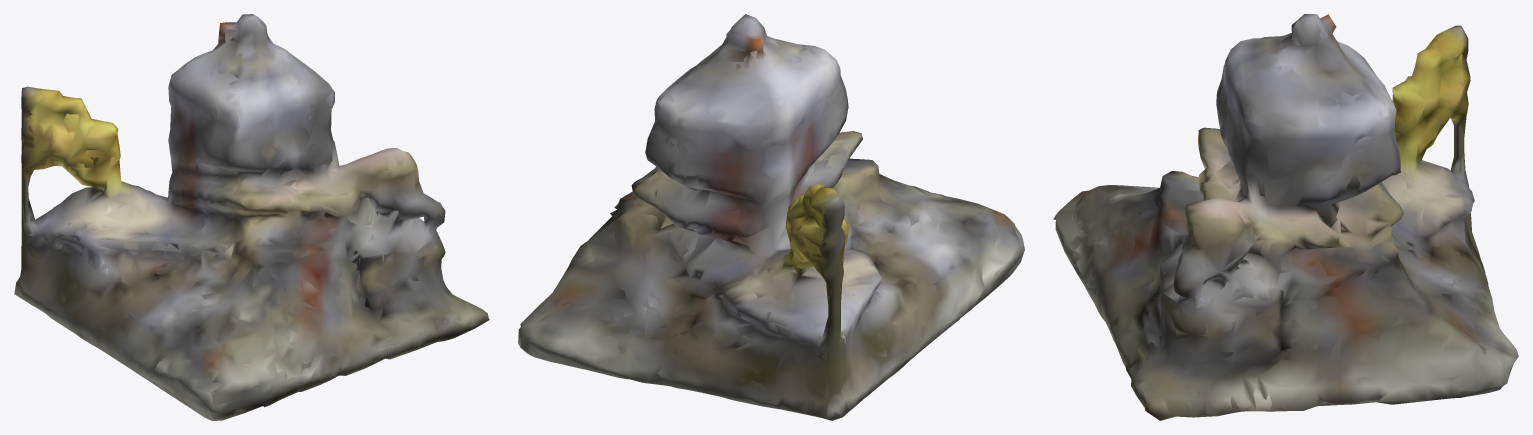
The model's file is tech_oil_derrick.glb.
3 views of the same model, side by side, from view 1: azimuth 30°, elevation 25°; view 2: azimuth 150°, elevation 25°; view 3: azimuth 270°, elevation 25° (orthographic). The views are drawn at different scales.
Parts seen in each view (by area): view 1: tech_oil_derrick; view 2: tech_oil_derrick; view 3: tech_oil_derrick.
Part boxes in pixels (x1,y1,x2,y2): tech_oil_derrick: [14, 14, 489, 420]; tech_oil_derrick: [518, 14, 1024, 420]; tech_oil_derrick: [1053, 14, 1518, 420].
Size of the model in its own units: 1.77 by 1.49 by 1.98.
